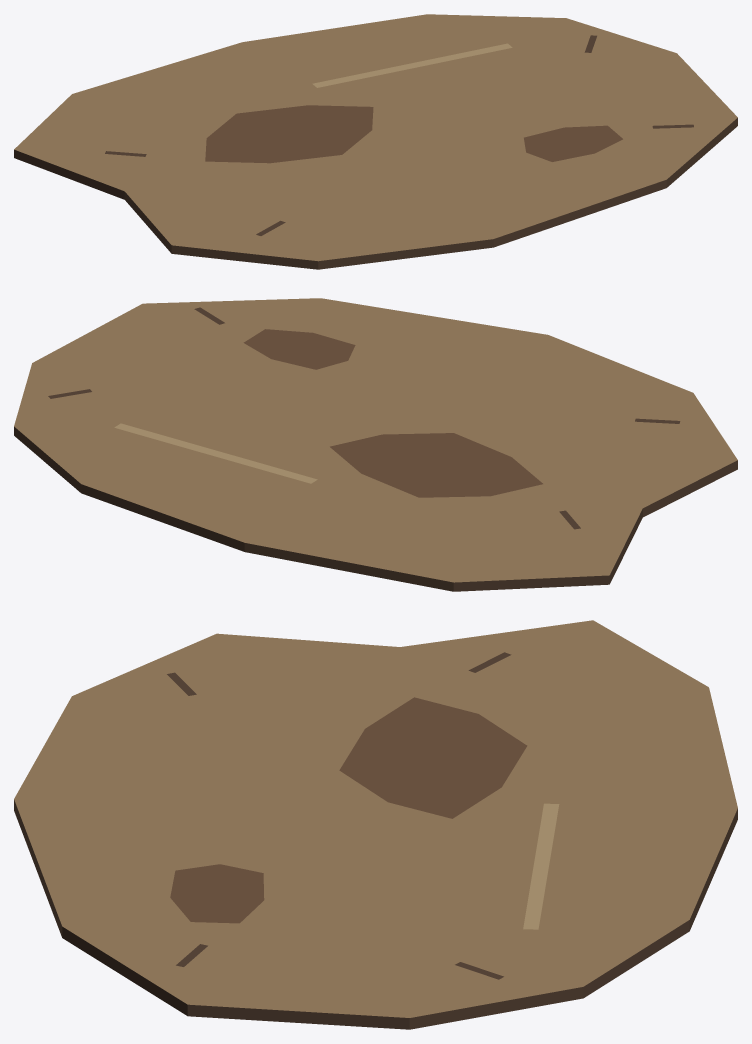
The model's file is TannedCowHide.glb.
3 views of the same model, one above another, from view 1: azimuth 30°, elevation 25°; view 2: azimuth 150°, elevation 25°; view 3: azimuth 270°, elevation 25° (orthographic). The views are drawn at different scales.
Parts seen in each view (by area): view 1: TannedCowHide; view 2: TannedCowHide; view 3: TannedCowHide.
Boxes of the visible parts, <box> form: TannedCowHide: <box>14,14,737,269</box>; TannedCowHide: <box>14,298,737,591</box>; TannedCowHide: <box>14,620,737,1029</box>.
Size of the model in its own units: 1.83 by 0.04 by 1.41.
